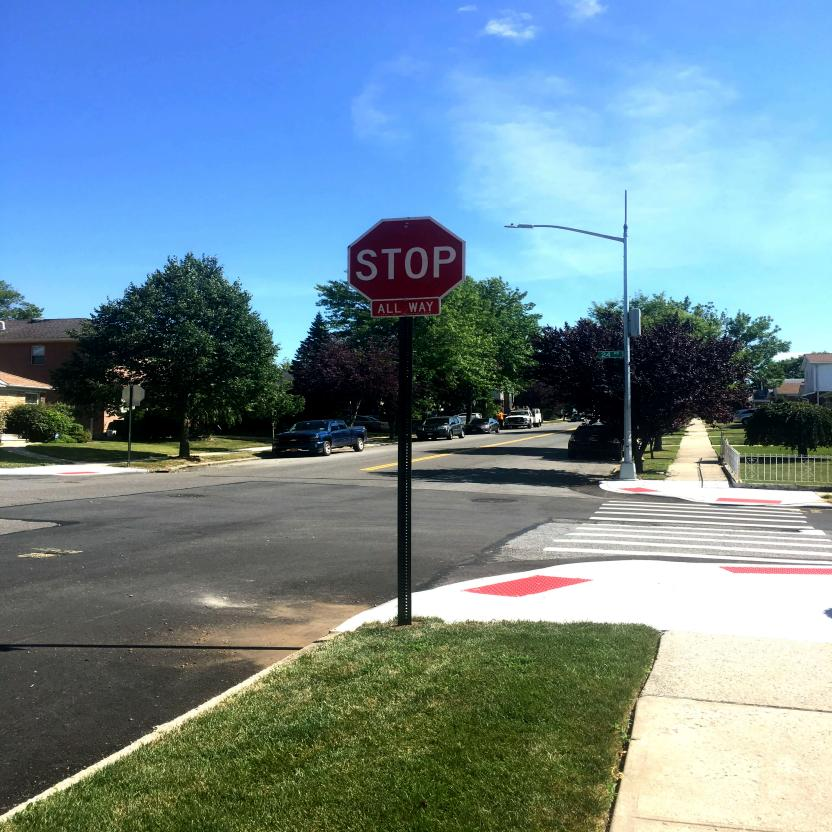Pole: (395, 318, 413, 625), (128, 406, 130, 468)
Sign: (348, 218, 468, 303), (123, 384, 144, 404)
